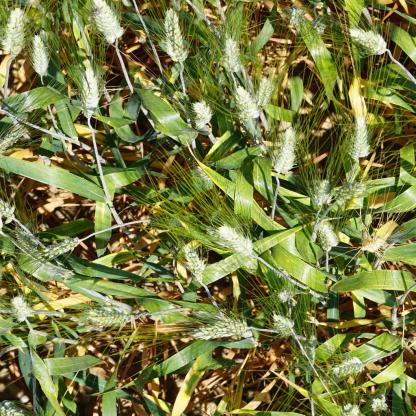whd: (344, 28, 390, 60), (161, 10, 188, 61), (93, 2, 125, 43), (346, 116, 373, 161), (273, 128, 299, 173), (79, 68, 102, 116), (215, 226, 252, 255), (195, 318, 248, 338), (4, 5, 26, 53), (83, 308, 130, 326), (233, 86, 258, 119), (40, 239, 78, 257), (181, 243, 201, 277), (222, 36, 243, 68), (31, 36, 48, 74), (336, 182, 366, 203), (188, 102, 212, 127), (333, 358, 365, 376), (254, 78, 274, 105), (0, 129, 21, 154), (10, 297, 34, 318), (320, 224, 339, 249), (312, 180, 332, 202), (203, 230, 230, 246), (0, 399, 25, 416), (360, 235, 384, 252), (15, 230, 35, 250), (0, 200, 17, 222), (304, 336, 316, 366), (270, 315, 293, 329), (288, 6, 302, 25), (340, 402, 359, 416), (371, 395, 387, 411), (194, 165, 212, 179), (276, 288, 293, 302), (309, 20, 326, 32), (167, 241, 181, 255), (322, 375, 339, 385), (208, 209, 224, 219), (280, 329, 295, 337)
